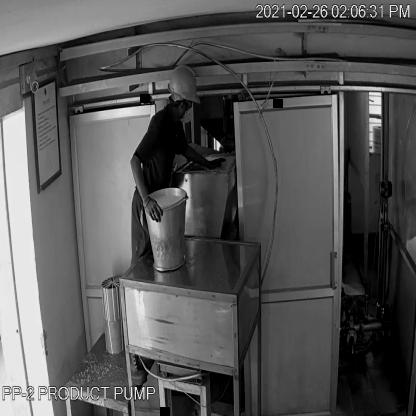helmet: (164, 62, 203, 108)
